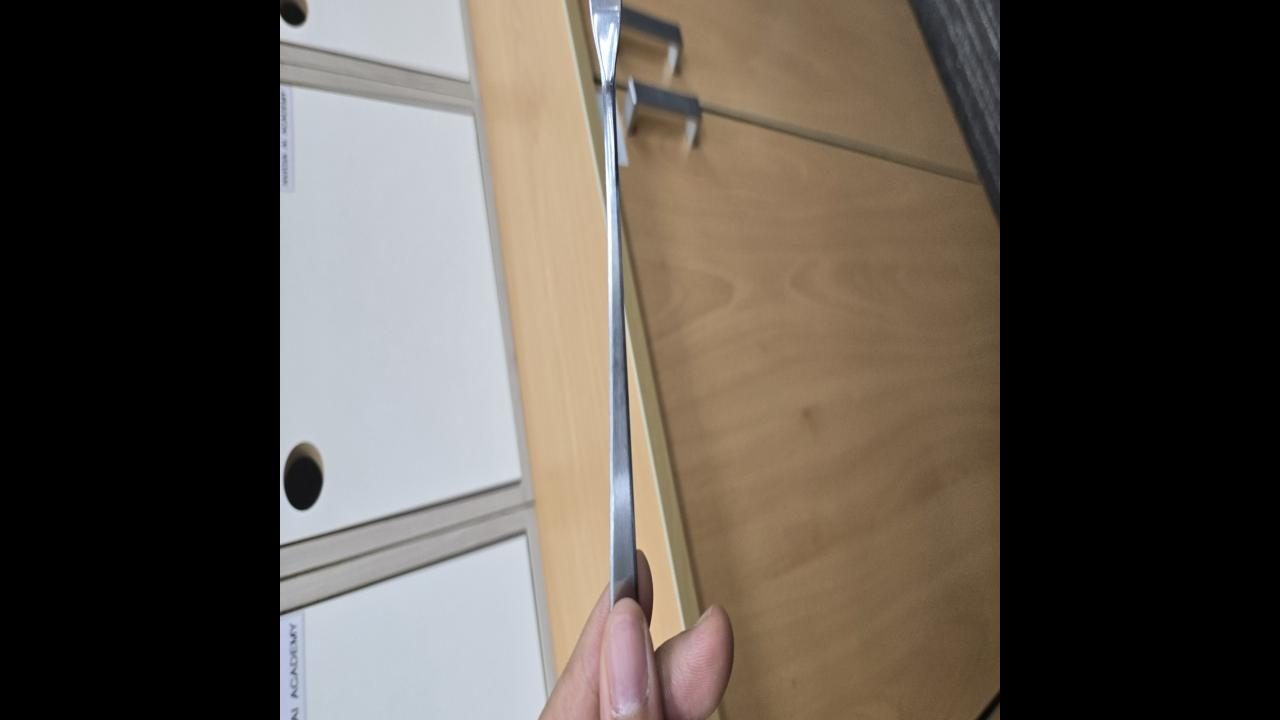fork: (588, 0, 640, 600)
